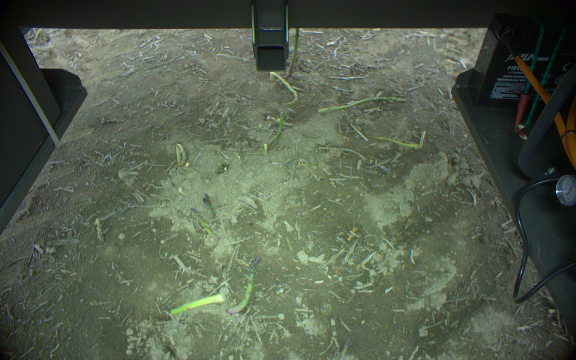aspa: (227, 254, 262, 315), (320, 95, 407, 114), (171, 292, 225, 317), (188, 207, 220, 244), (270, 71, 300, 108), (283, 27, 301, 79), (374, 134, 419, 150), (266, 110, 284, 145), (336, 337, 357, 360), (200, 195, 217, 219), (177, 143, 187, 165), (175, 145, 182, 166)
